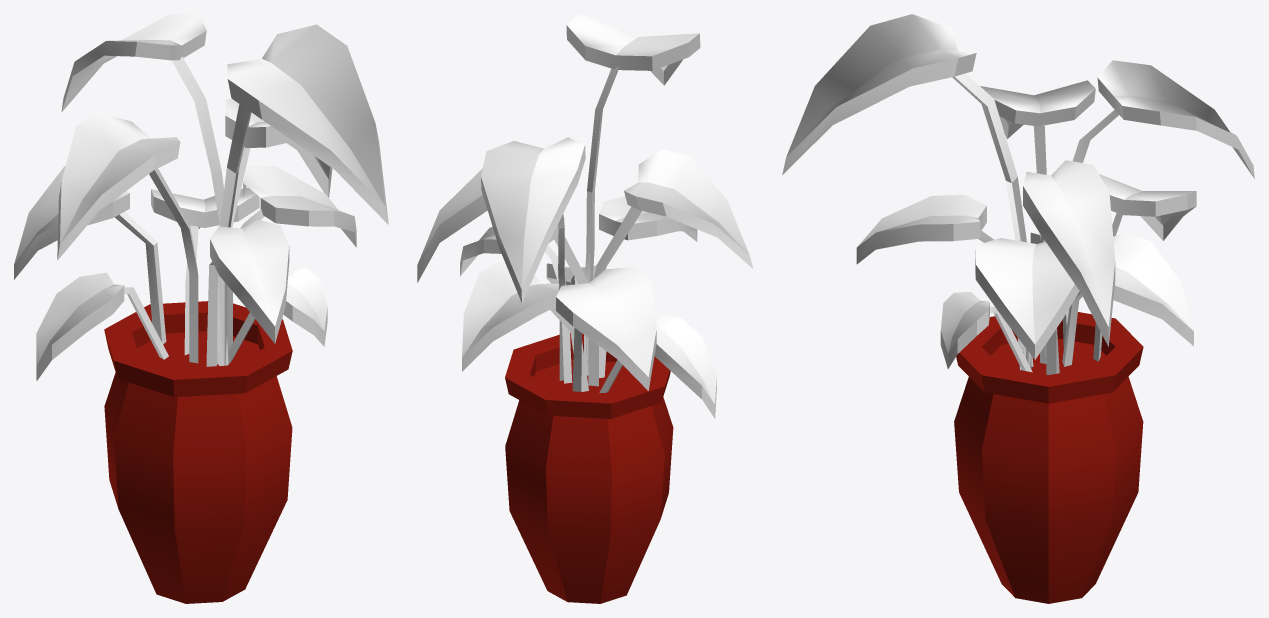
File: SM_Plant_03.fbx
The picture shows the model from 3 angles, left to right: view 1: azimuth 30°, elevation 25°; view 2: azimuth 150°, elevation 25°; view 3: azimuth 270°, elevation 25°; orthographic projection. The views are drawn at different scales.
Visible parts, largest first — view 1: SM_Plant_03; view 2: SM_Plant_03; view 3: SM_Plant_03.
Boxes of the visible parts, bbox=[...] form: SM_Plant_03: bbox=[14, 14, 388, 603]; SM_Plant_03: bbox=[417, 14, 753, 603]; SM_Plant_03: bbox=[782, 14, 1254, 603].
Bounding box in the file's own units: 35.24 × 59.95 × 45.87.
